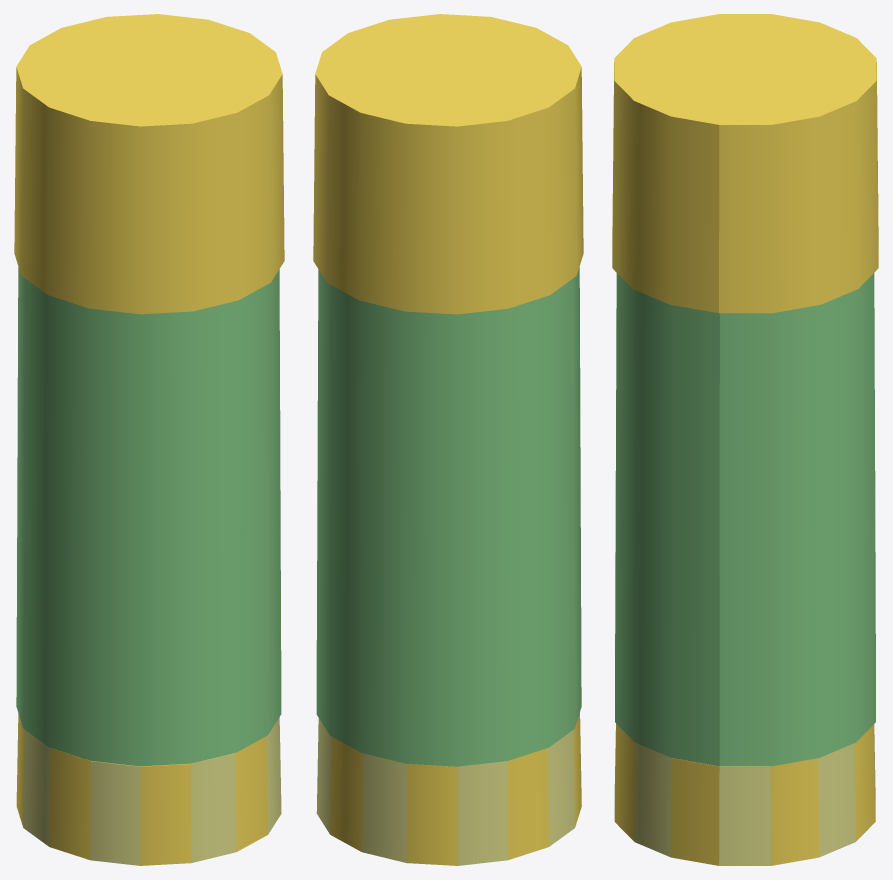
3 renders of one model, left to right at view 1: azimuth 30°, elevation 25°; view 2: azimuth 150°, elevation 25°; view 3: azimuth 270°, elevation 25°, orthographic.
Parts seen in each view (by area): view 1: glue_stick.001, glue_stick.002, glue_stick; view 2: glue_stick.001, glue_stick.002, glue_stick; view 3: glue_stick.001, glue_stick.002, glue_stick.
Part boxes in pixels (box(x1,y1,x2,y2)): glue_stick.001: box(16, 267, 281, 766); glue_stick.002: box(14, 14, 284, 314); glue_stick: box(16, 713, 281, 865); glue_stick.001: box(316, 267, 581, 766); glue_stick.002: box(313, 14, 583, 314); glue_stick: box(316, 713, 581, 865); glue_stick.001: box(615, 273, 875, 766); glue_stick.002: box(612, 14, 878, 313); glue_stick: box(614, 723, 875, 865).
Size of the model in its own units: 273 by 838 by 273.
